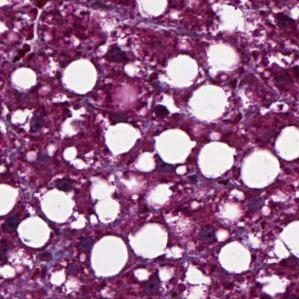steatosis: (185, 82, 230, 124), (240, 149, 282, 191), (154, 123, 195, 166), (195, 141, 236, 179), (91, 235, 127, 278), (217, 240, 253, 278), (63, 58, 99, 93), (104, 122, 138, 156), (20, 218, 51, 250), (13, 62, 43, 93)
